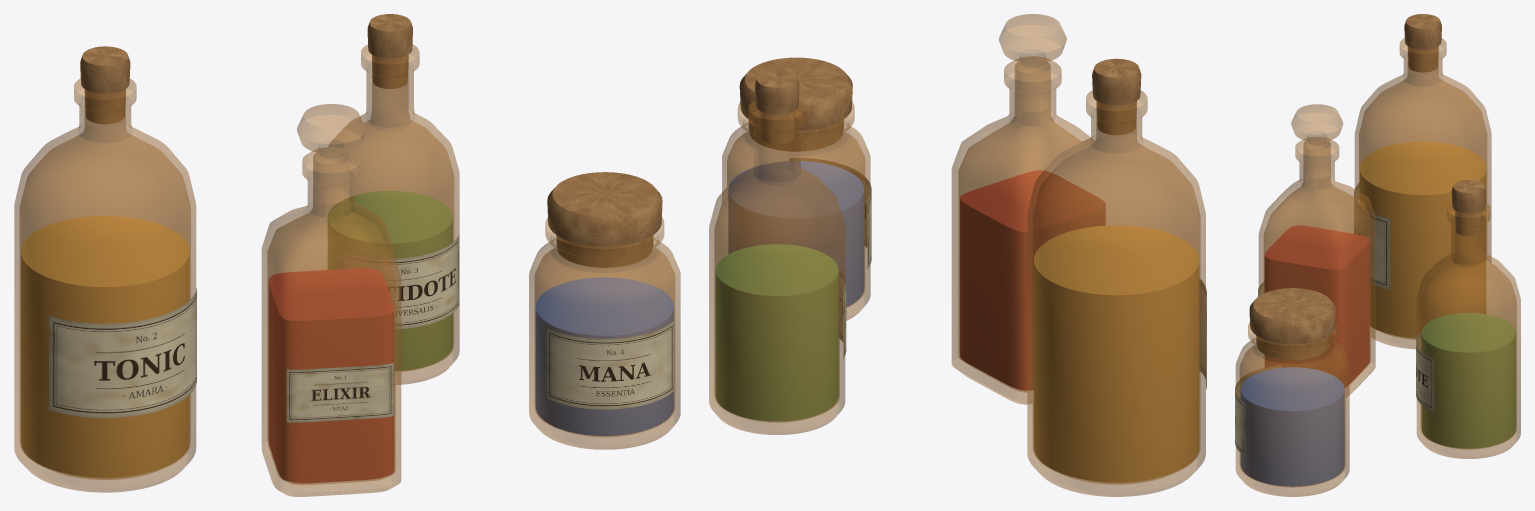
The model's file is potions.fbx.
The picture shows the model from 3 angles, left to right: view 1: azimuth 30°, elevation 25°; view 2: azimuth 150°, elevation 25°; view 3: azimuth 270°, elevation 25°; orthographic projection. The views are drawn at different scales.
Visible parts, largest first — view 1: Bottle_2_Tall_Glass, Bottle_1_Square_Glass, Bottle_2_Tall_Liquid, Bottle_4_Jar_Glass, Bottle_1_Square_Liquid, Bottle_3_Round_Glass, Bottle_2_Tall_Label, Bottle_4_Jar_Liquid, Bottle_3_Round_Liquid, Bottle_4_Jar_Cork, Bottle_4_Jar_Label, Bottle_1_Square_Label (+4 smaller); view 2: Bottle_2_Tall_Glass, Bottle_2_Tall_Liquid, Bottle_3_Round_Glass, Bottle_1_Square_Glass, Bottle_3_Round_Liquid, Bottle_1_Square_Liquid, Bottle_4_Jar_Liquid, Bottle_4_Jar_Glass, Bottle_4_Jar_Cork, Bottle_1_Square_Stopper, Bottle_2_Tall_Cork, Bottle_3_Round_Cork (+3 smaller); view 3: Bottle_2_Tall_Glass, Bottle_3_Round_Glass, Bottle_2_Tall_Liquid, Bottle_1_Square_Glass, Bottle_4_Jar_Glass, Bottle_3_Round_Liquid, Bottle_4_Jar_Liquid, Bottle_1_Square_Liquid, Bottle_4_Jar_Cork, Bottle_1_Square_Stopper, Bottle_2_Tall_Label, Bottle_2_Tall_Cork (+3 smaller).
Part boxes in pixels (x1,y1,x2,y2): Bottle_2_Tall_Glass: (14,78,196,492); Bottle_1_Square_Glass: (261,147,401,496); Bottle_2_Tall_Liquid: (21,216,189,478); Bottle_4_Jar_Glass: (529,217,680,449); Bottle_1_Square_Liquid: (268,268,394,483); Bottle_3_Round_Glass: (328,44,459,384); Bottle_2_Tall_Label: (49,288,196,417); Bottle_4_Jar_Liquid: (535,277,673,435); Bottle_3_Round_Liquid: (328,190,452,370); Bottle_4_Jar_Cork: (547,172,662,267); Bottle_4_Jar_Label: (546,320,674,409); Bottle_1_Square_Label: (286,363,393,422); Bottle_2_Tall_Glass: (1027,90,1205,496); Bottle_2_Tall_Liquid: (1034,225,1199,482); Bottle_3_Round_Glass: (709,100,845,434); Bottle_1_Square_Glass: (951,56,1094,404); Bottle_3_Round_Liquid: (715,244,838,421); Bottle_1_Square_Liquid: (960,170,1105,390); Bottle_4_Jar_Liquid: (728,161,864,306); Bottle_4_Jar_Glass: (722,102,870,320); Bottle_4_Jar_Cork: (739,57,852,151); Bottle_1_Square_Stopper: (999,14,1066,111); Bottle_2_Tall_Cork: (1092,58,1141,135); Bottle_3_Round_Cork: (755,70,799,144); Bottle_2_Tall_Glass: (1354,38,1491,349); Bottle_3_Round_Glass: (1416,203,1520,458); Bottle_2_Tall_Liquid: (1360,141,1486,338); Bottle_1_Square_Glass: (1258,137,1375,397); Bottle_4_Jar_Glass: (1235,322,1349,496); Bottle_3_Round_Liquid: (1421,313,1515,448); Bottle_4_Jar_Liquid: (1240,367,1344,486); Bottle_1_Square_Liquid: (1264,225,1369,387); Bottle_4_Jar_Cork: (1249,288,1335,359); Bottle_1_Square_Stopper: (1291,104,1343,178); Bottle_2_Tall_Label: (1354,182,1390,289); Bottle_2_Tall_Cork: (1404,14,1441,72).
Size of the model in its own units: 29.7 by 20.5 by 17.53.
Materials: 7 (2 with a texture image).
